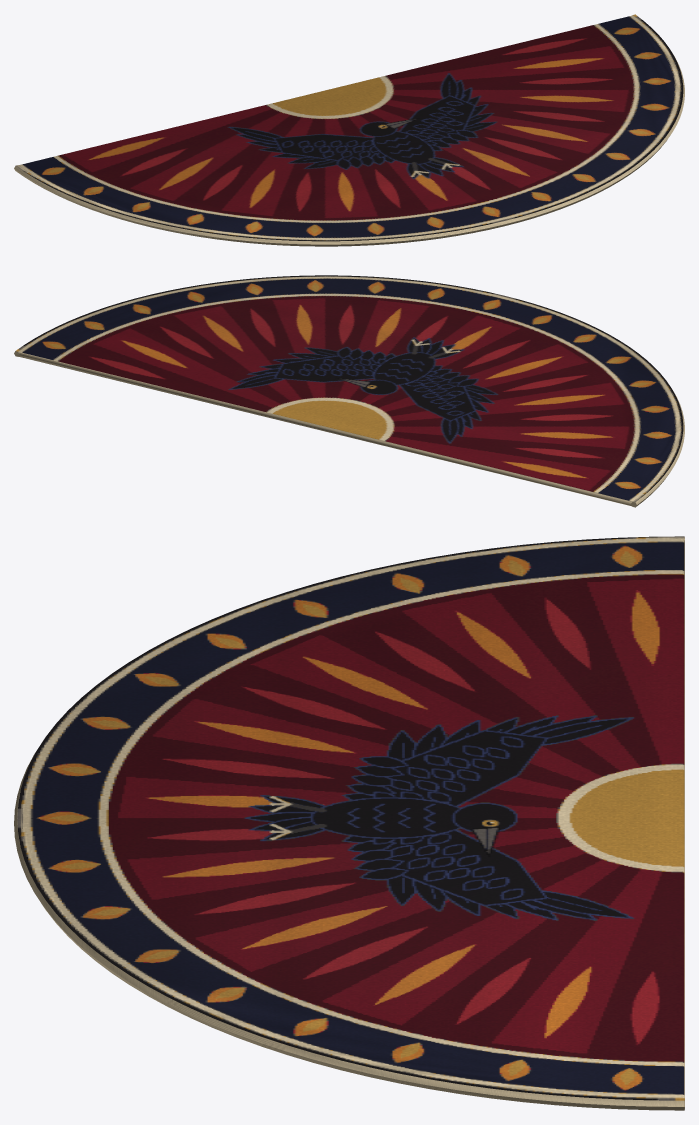
Rendered from RavenHearthRug.fbx.
3 views of the same model, one above another, from view 1: azimuth 30°, elevation 25°; view 2: azimuth 150°, elevation 25°; view 3: azimuth 270°, elevation 25° (orthographic). The views are drawn at different scales.
Parts seen in each view (by area): view 1: RavenHearthRug; view 2: RavenHearthRug; view 3: RavenHearthRug.
Part boxes in pixels (bbox=[...]): RavenHearthRug: bbox=[14, 14, 684, 246]; RavenHearthRug: bbox=[14, 275, 684, 507]; RavenHearthRug: bbox=[14, 536, 684, 1110].
Size of the model in its own units: 707 by 6 by 353.
